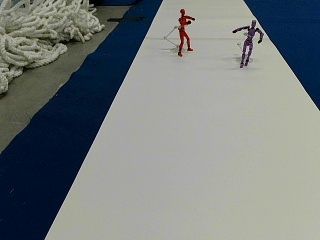pedestrian: (232, 19, 263, 66), (176, 7, 194, 55)
